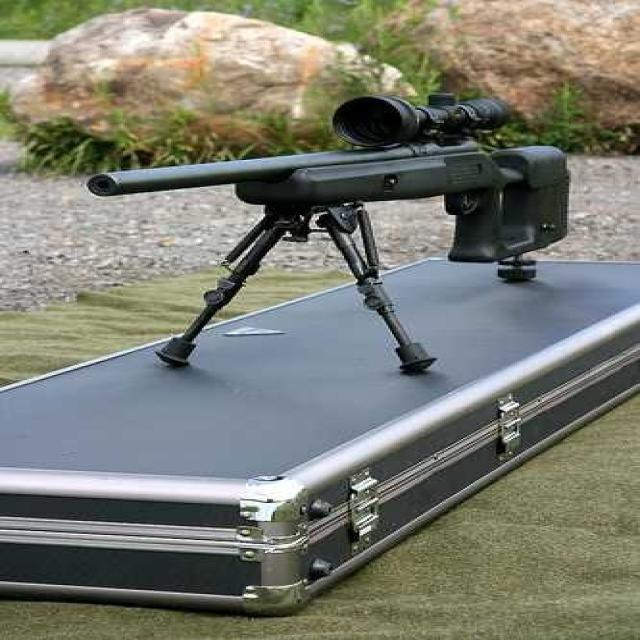heavyweapon: (47, 69, 628, 368)
